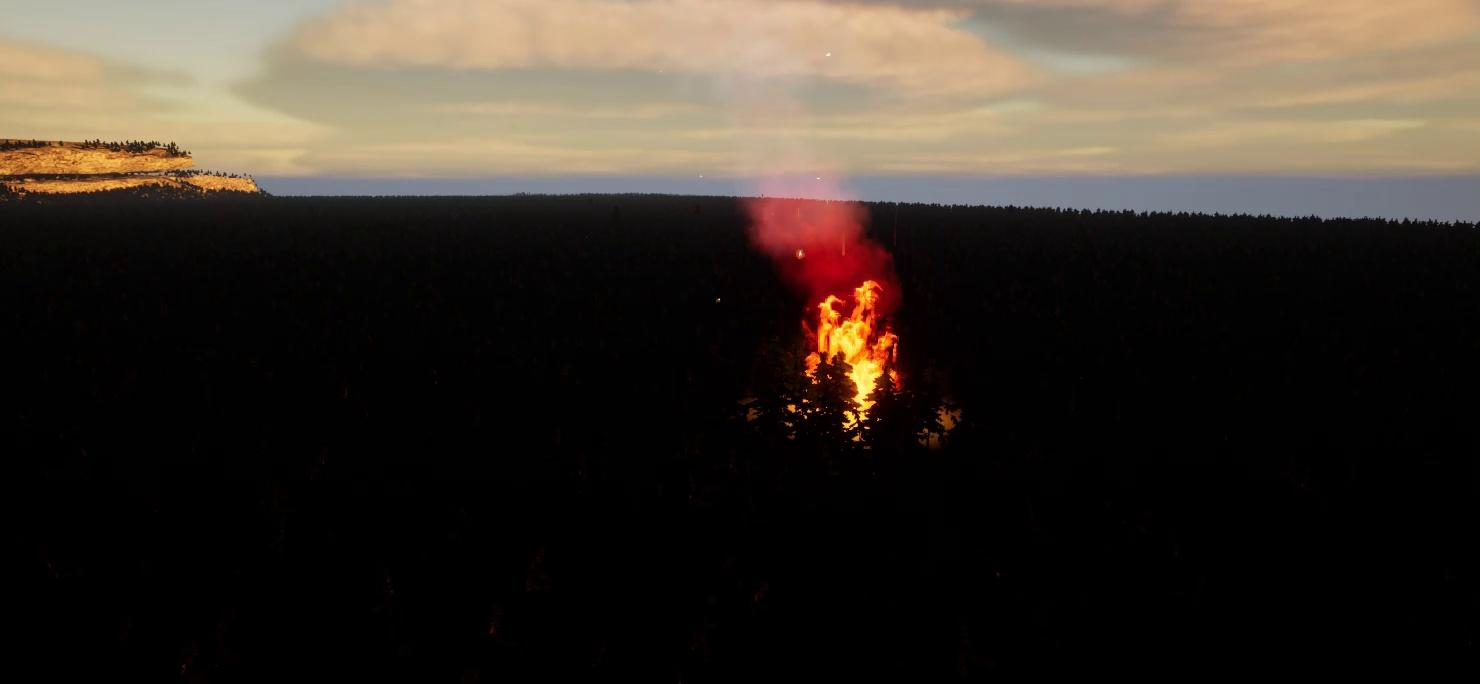fire: (782, 283, 956, 434)
smoke: (741, 132, 900, 301)
